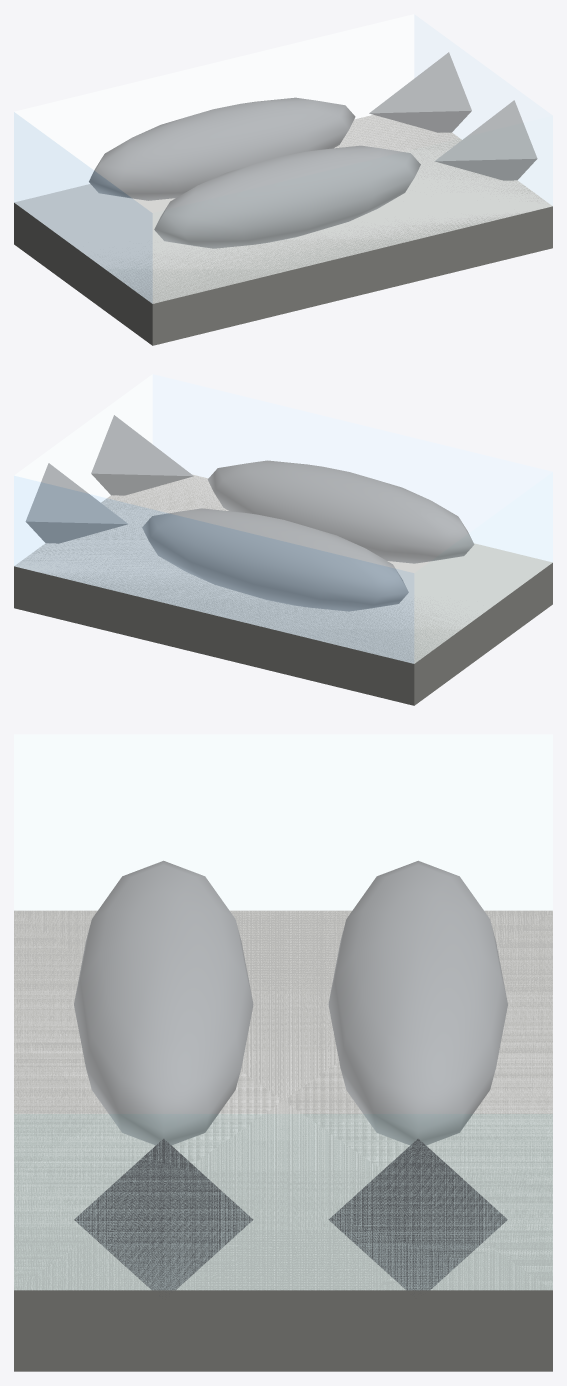
File: fishpack.glb
The picture shows the model from 3 angles, top to bottom: view 1: azimuth 30°, elevation 25°; view 2: azimuth 150°, elevation 25°; view 3: azimuth 270°, elevation 25°; orthographic projection. The views are drawn at different scales.
Parts seen in each view (by area): view 1: fishpack; view 2: fishpack; view 3: fishpack.
Part boxes in pixels (x1=…): fishpack: x1=14, y1=14, x2=552, y2=345; fishpack: x1=14, y1=374, x2=552, y2=705; fishpack: x1=14, y1=734, x2=552, y2=1371.
Size of the model in its own units: 0.3 by 0.095 by 0.18.
